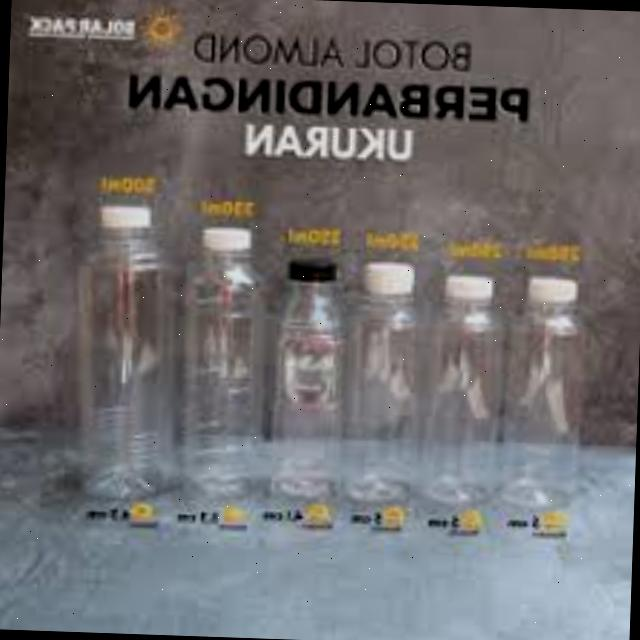trash: (60, 196, 192, 504), (324, 252, 436, 538), (178, 223, 274, 514), (259, 248, 353, 512), (419, 270, 510, 512), (499, 274, 588, 516)
